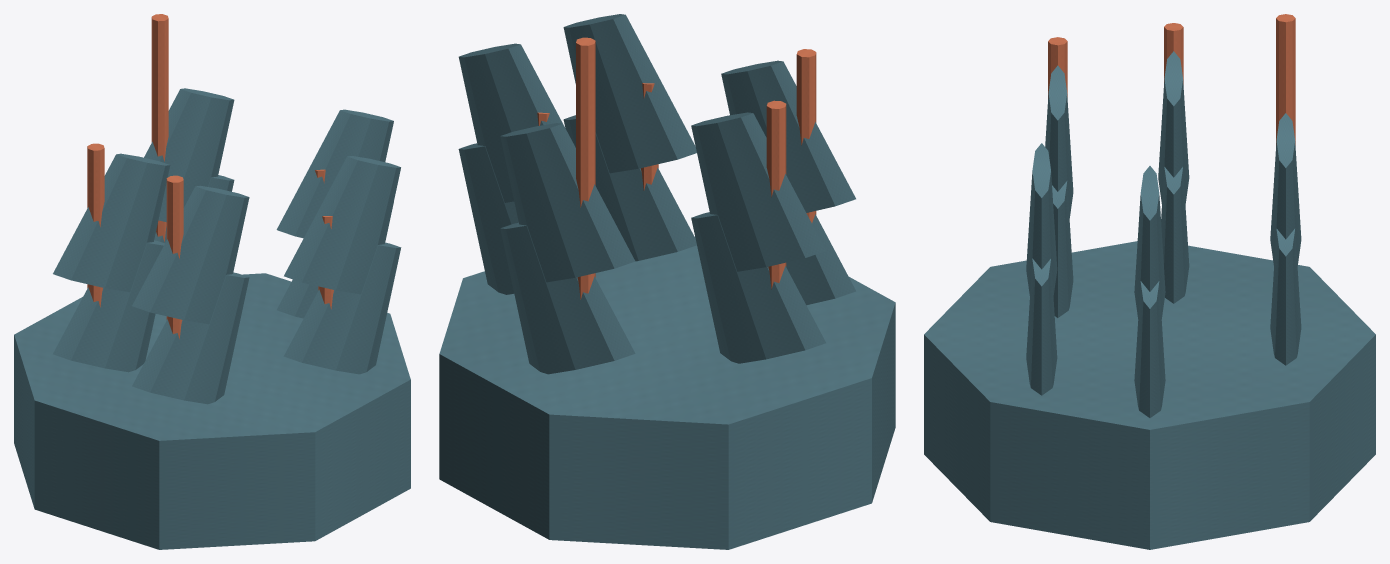
File: atlas100-s041-a12.glb
3 renders of one model, left to right at view 1: azimuth 30°, elevation 25°; view 2: azimuth 150°, elevation 25°; view 3: azimuth 270°, elevation 25°, orthographic. The views are drawn at different scales.
Parts seen in each view (by area): view 1: atlas100-s041-a12:part-000, atlas100-s041-a12:part-012, atlas100-s041-a12:part-006, atlas100-s041-a12:part-015, atlas100-s041-a12:part-011, atlas100-s041-a12:part-005, atlas100-s041-a12:part-014, atlas100-s041-a12:part-009, atlas100-s041-a12:part-003, atlas100-s041-a12:part-007, atlas100-s041-a12:part-004, atlas100-s041-a12:part-013 (+1 smaller); view 2: atlas100-s041-a12:part-000, atlas100-s041-a12:part-015, atlas100-s041-a12:part-009, atlas100-s041-a12:part-012, atlas100-s041-a12:part-008, atlas100-s041-a12:part-014, atlas100-s041-a12:part-003, atlas100-s041-a12:part-006, atlas100-s041-a12:part-011, atlas100-s041-a12:part-002, atlas100-s041-a12:part-007, atlas100-s041-a12:part-005 (+2 smaller); view 3: atlas100-s041-a12:part-000, atlas100-s041-a12:part-002, atlas100-s041-a12:part-008, atlas100-s041-a12:part-011, atlas100-s041-a12:part-014, atlas100-s041-a12:part-012, atlas100-s041-a12:part-015, atlas100-s041-a12:part-009, atlas100-s041-a12:part-003, atlas100-s041-a12:part-006, atlas100-s041-a12:part-007, atlas100-s041-a12:part-005 (+2 smaller).
Part boxes in pixels (x1=…): atlas100-s041-a12:part-000: x1=14, y1=273, x2=410, y2=549; atlas100-s041-a12:part-012: x1=284, y1=156, x2=400, y2=294; atlas100-s041-a12:part-006: x1=132, y1=185, x2=249, y2=324; atlas100-s041-a12:part-015: x1=53, y1=153, x2=170, y2=292; atlas100-s041-a12:part-011: x1=283, y1=242, x2=401, y2=374; atlas100-s041-a12:part-005: x1=132, y1=272, x2=249, y2=404; atlas100-s041-a12:part-014: x1=53, y1=240, x2=164, y2=372; atlas100-s041-a12:part-009: x1=144, y1=88, x2=234, y2=222; atlas100-s041-a12:part-003: x1=276, y1=109, x2=393, y2=238; atlas100-s041-a12:part-007: x1=151, y1=14, x2=168, y2=241; atlas100-s041-a12:part-004: x1=166, y1=175, x2=183, y2=339; atlas100-s041-a12:part-013: x1=87, y1=143, x2=104, y2=307; atlas100-s041-a12:part-000: x1=439, y1=237, x2=895, y2=549; atlas100-s041-a12:part-015: x1=691, y1=112, x2=826, y2=271; atlas100-s041-a12:part-009: x1=500, y1=123, x2=635, y2=282; atlas100-s041-a12:part-012: x1=563, y1=14, x2=696, y2=173; atlas100-s041-a12:part-008: x1=500, y1=222, x2=635, y2=374; atlas100-s041-a12:part-014: x1=691, y1=212, x2=825, y2=363; atlas100-s041-a12:part-003: x1=458, y1=43, x2=575, y2=202; atlas100-s041-a12:part-006: x1=721, y1=60, x2=855, y2=212; atlas100-s041-a12:part-011: x1=563, y1=115, x2=696, y2=261; atlas100-s041-a12:part-002: x1=458, y1=143, x2=518, y2=294; atlas100-s041-a12:part-007: x1=576, y1=37, x2=595, y2=299; atlas100-s041-a12:part-005: x1=786, y1=214, x2=855, y2=305; atlas100-s041-a12:part-000: x1=924, y1=241, x2=1375, y2=549; atlas100-s041-a12:part-002: x1=1134, y1=281, x2=1165, y2=417; atlas100-s041-a12:part-008: x1=1270, y1=229, x2=1301, y2=365; atlas100-s041-a12:part-011: x1=1026, y1=258, x2=1057, y2=395; atlas100-s041-a12:part-014: x1=1161, y1=167, x2=1189, y2=303; atlas100-s041-a12:part-012: x1=1026, y1=143, x2=1057, y2=296; atlas100-s041-a12:part-015: x1=1158, y1=51, x2=1189, y2=204; atlas100-s041-a12:part-009: x1=1270, y1=113, x2=1301, y2=265; atlas100-s041-a12:part-003: x1=1134, y1=166, x2=1165, y2=318; atlas100-s041-a12:part-006: x1=1045, y1=65, x2=1073, y2=217; atlas100-s041-a12:part-007: x1=1276, y1=14, x2=1295, y2=145; atlas100-s041-a12:part-005: x1=1052, y1=181, x2=1073, y2=317.
Size of the model in its own units: 1.17 by 1.25 by 1.16.
2 materials, 2 textured.
